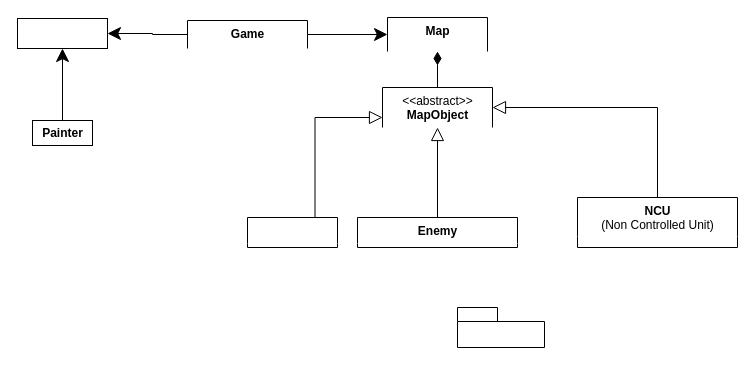
This 755x365 diagram has some shape labels left out. The shapes that lost their labels are listed below. From the top down, each one's centre as x and y in pixels, then its label:
At (62,33): "FrameInit".
At (292,232): "Player".
At (500,327): "helpers".
